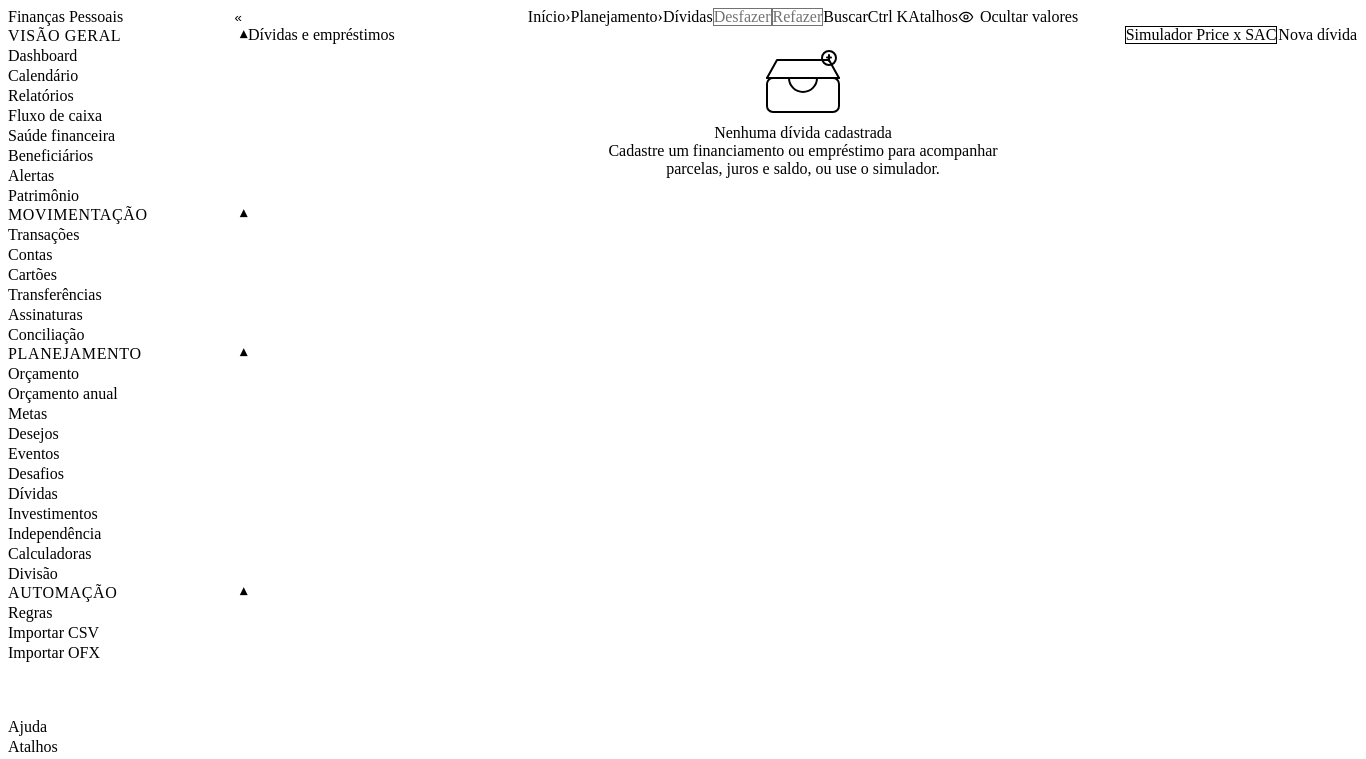
Test: dívidas: tela (critérios 1, 6, 8, 10 a 14) › critério 11: o simulador mostra Price e SAC lado a lado, recusa erros e não grava
Click the button "Simulador Price x SAC" at (1201, 35), box [1125,26,1277,44]
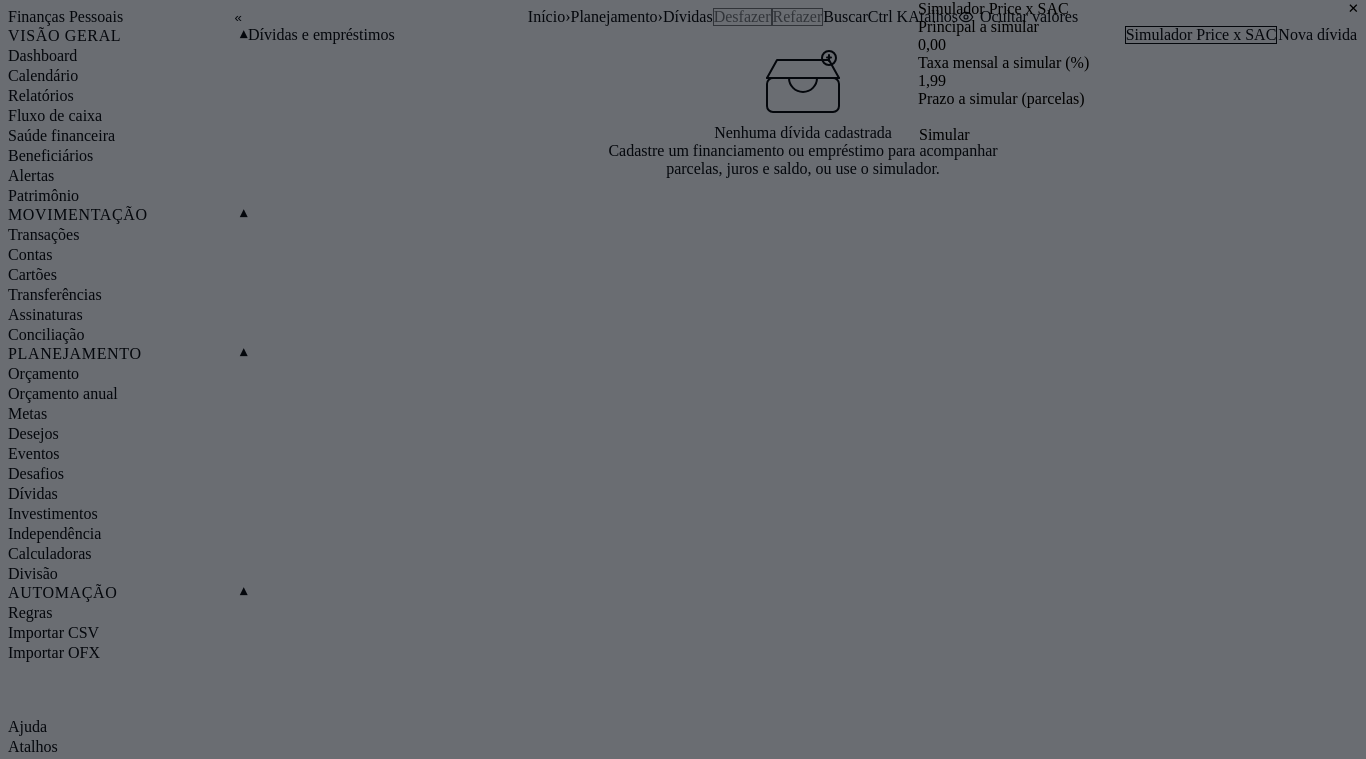
Click the button "Simular" at (944, 135), box [918,126,971,144]
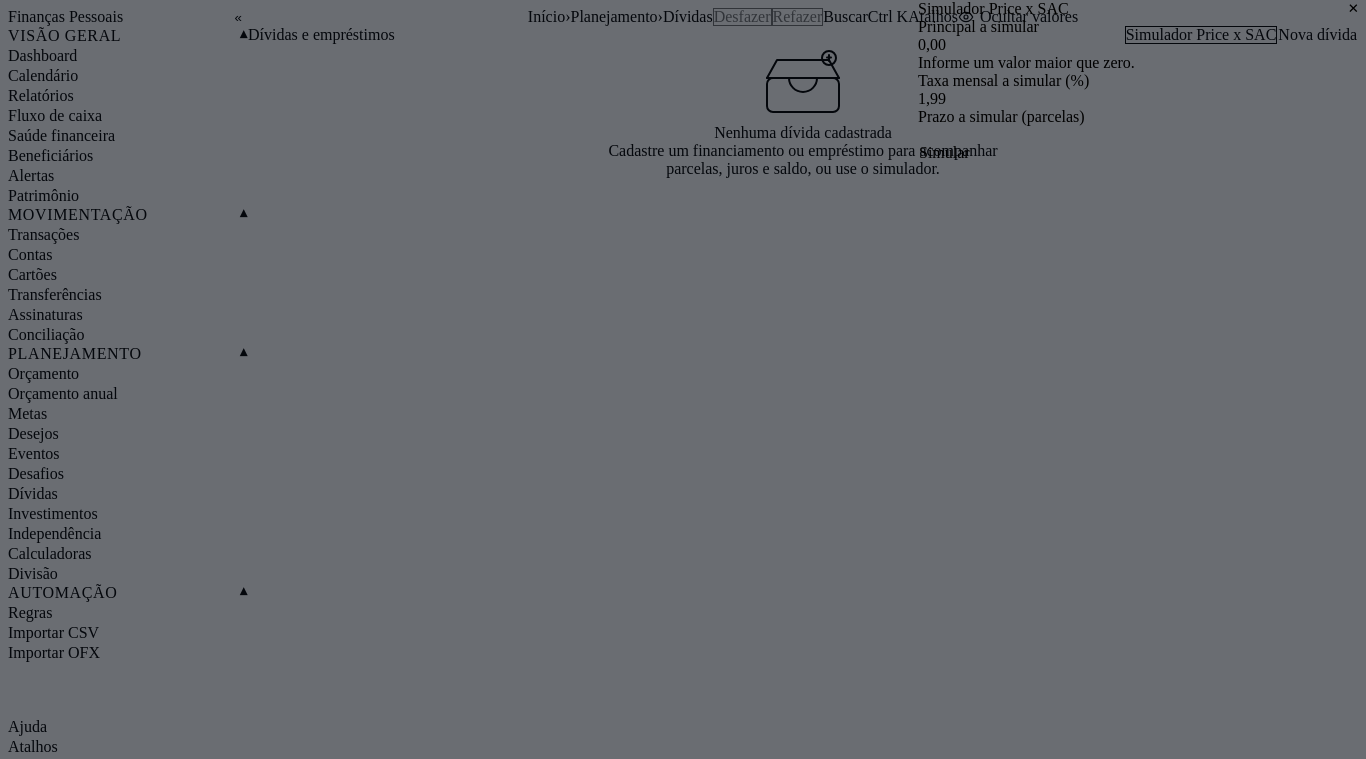
Check: the message reads "Informe um valor maior que zero.", box [918,54,1135,71]
Type "1000" into the field labelled "Principal a simular" at (1142, 45), box [918,36,1365,54]
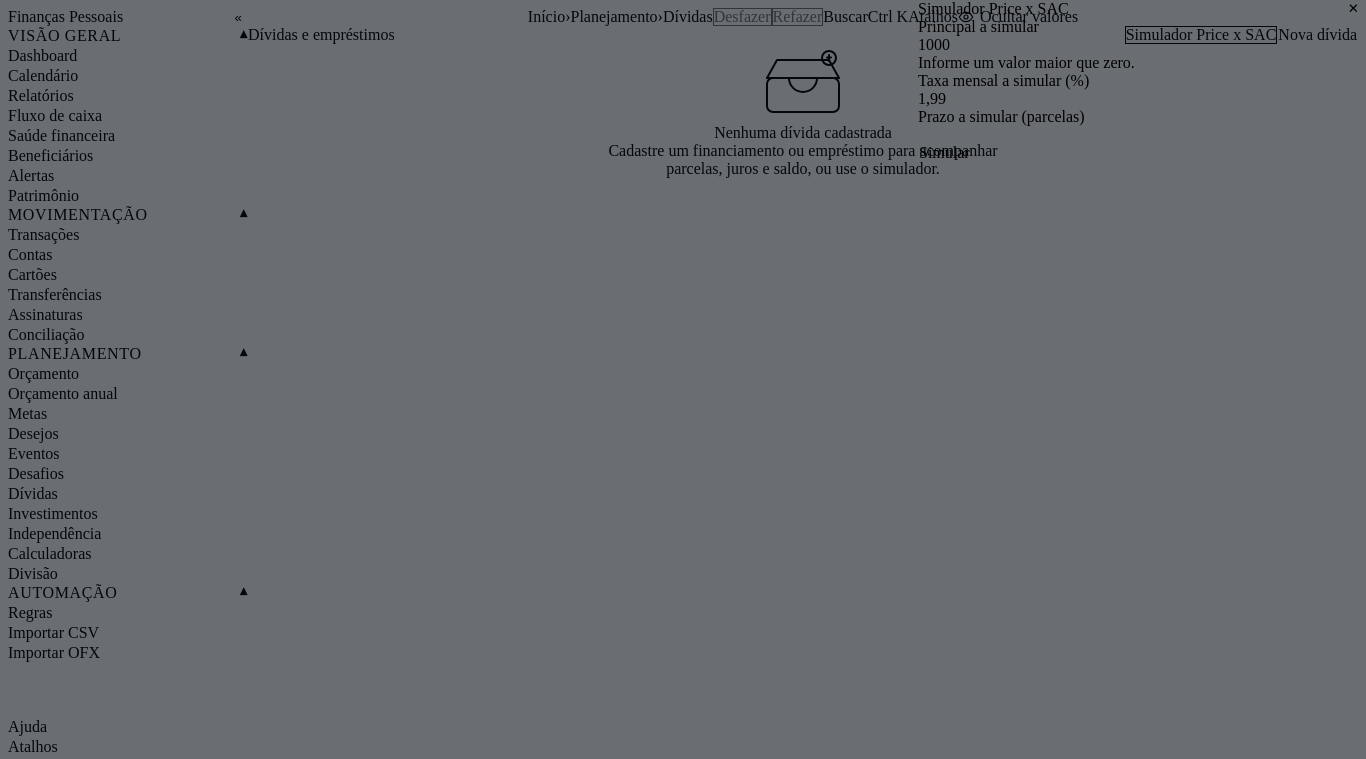
Type "1" into the field labelled "Taxa mensal a simular (%)" at (1142, 99), box [918,90,1365,108]
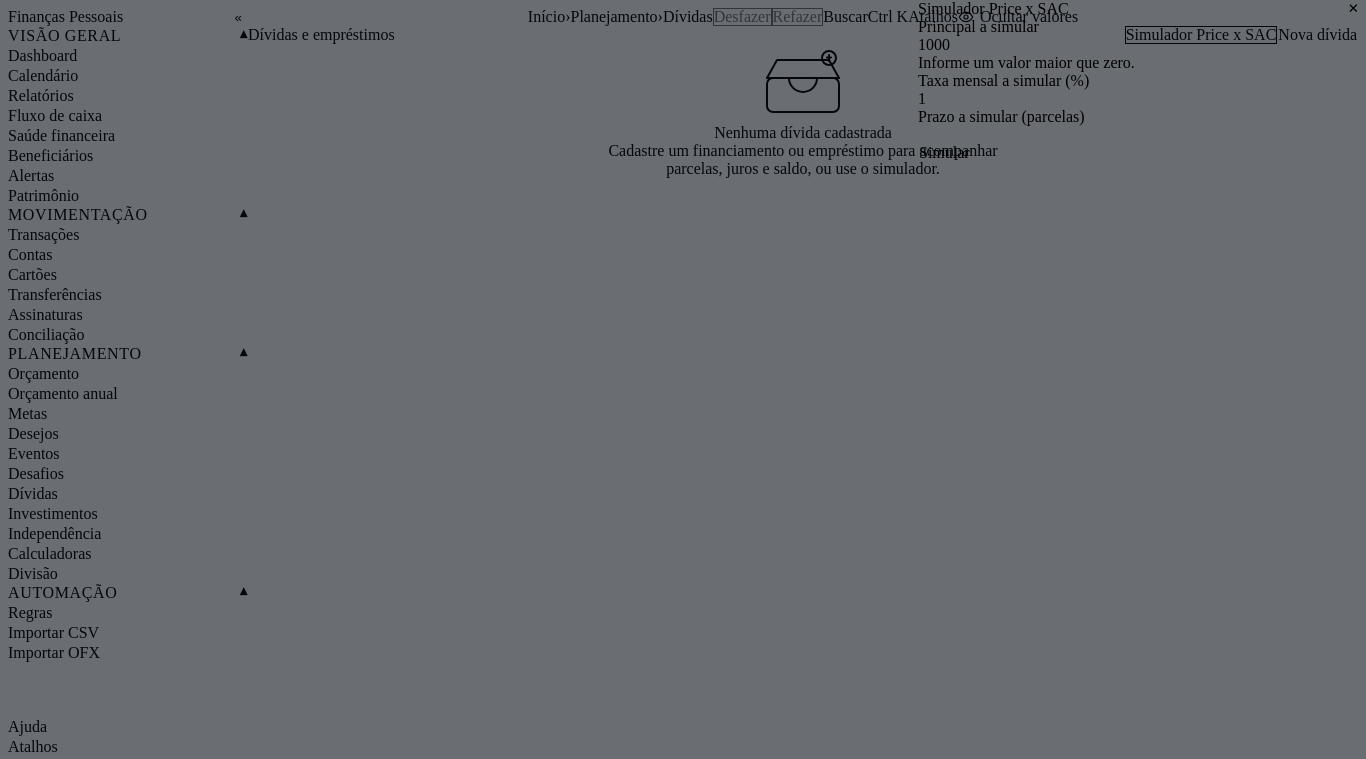
Type "3" into the field labelled "Prazo a simular (parcelas)" at (1142, 135), box [918,126,1365,144]
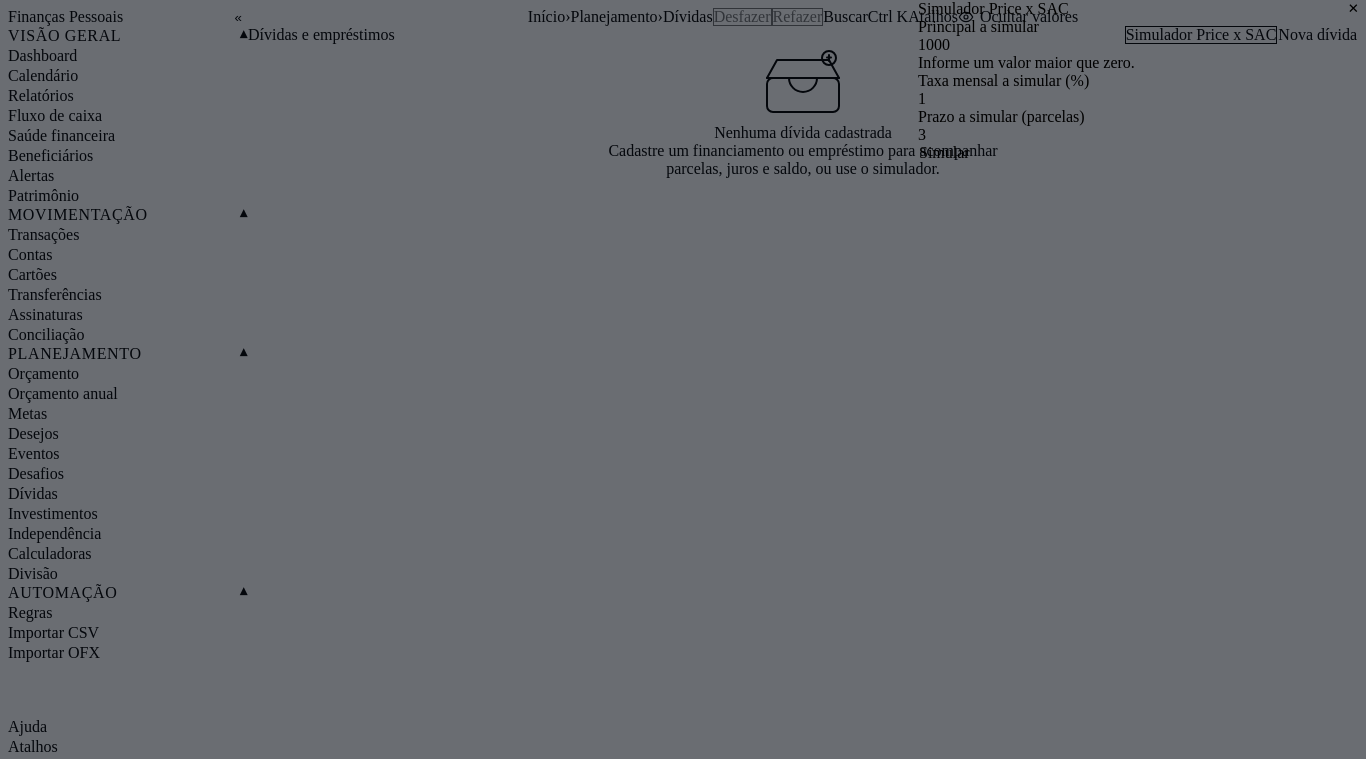
Click the button "Simular" at (944, 153), box [918,144,971,162]
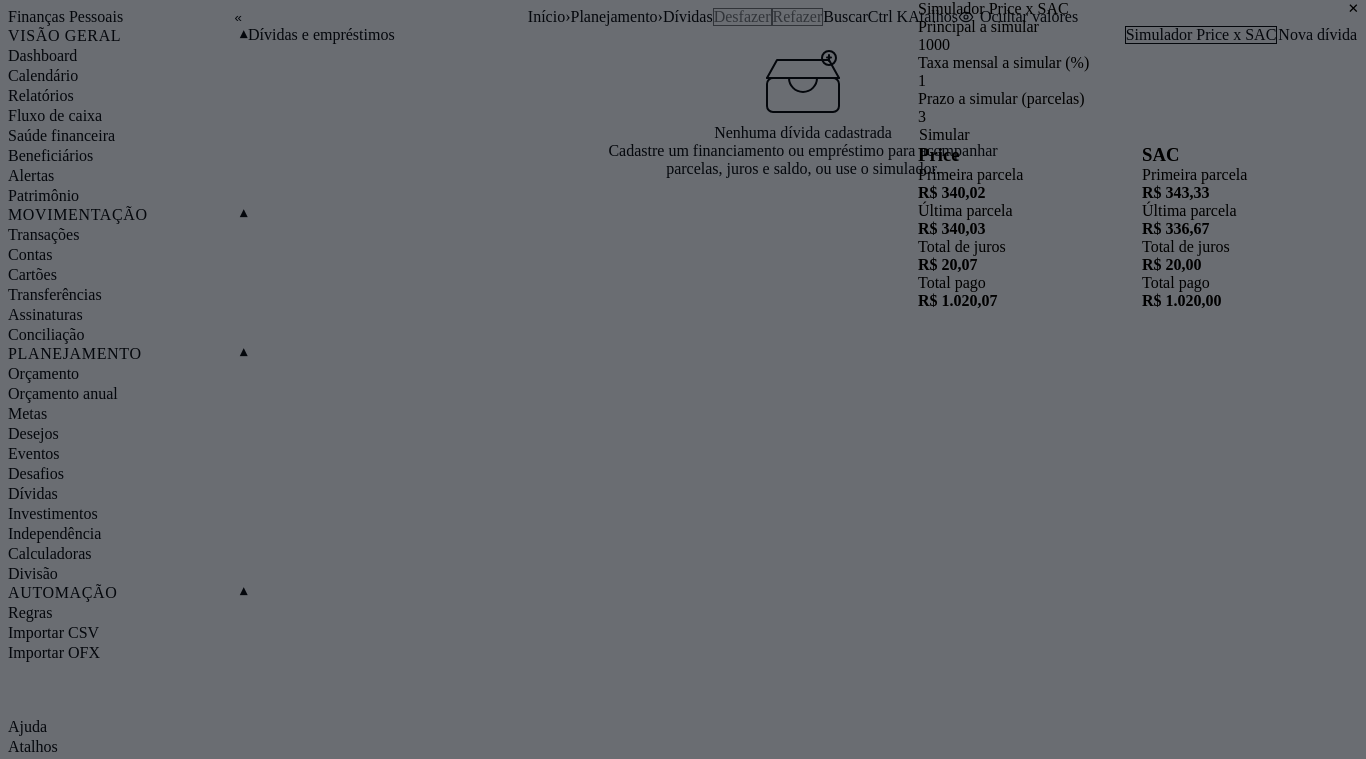
Check: the text with test id "sim-price-primeira" reads "R$ 340,02", box [918,184,986,201]
Check: the text with test id "sim-price-juros" reads "R$ 20,07", box [918,256,978,273]
Check: the text with test id "sim-sac-primeira" reads "R$ 343,33", box [1142,184,1210,201]
